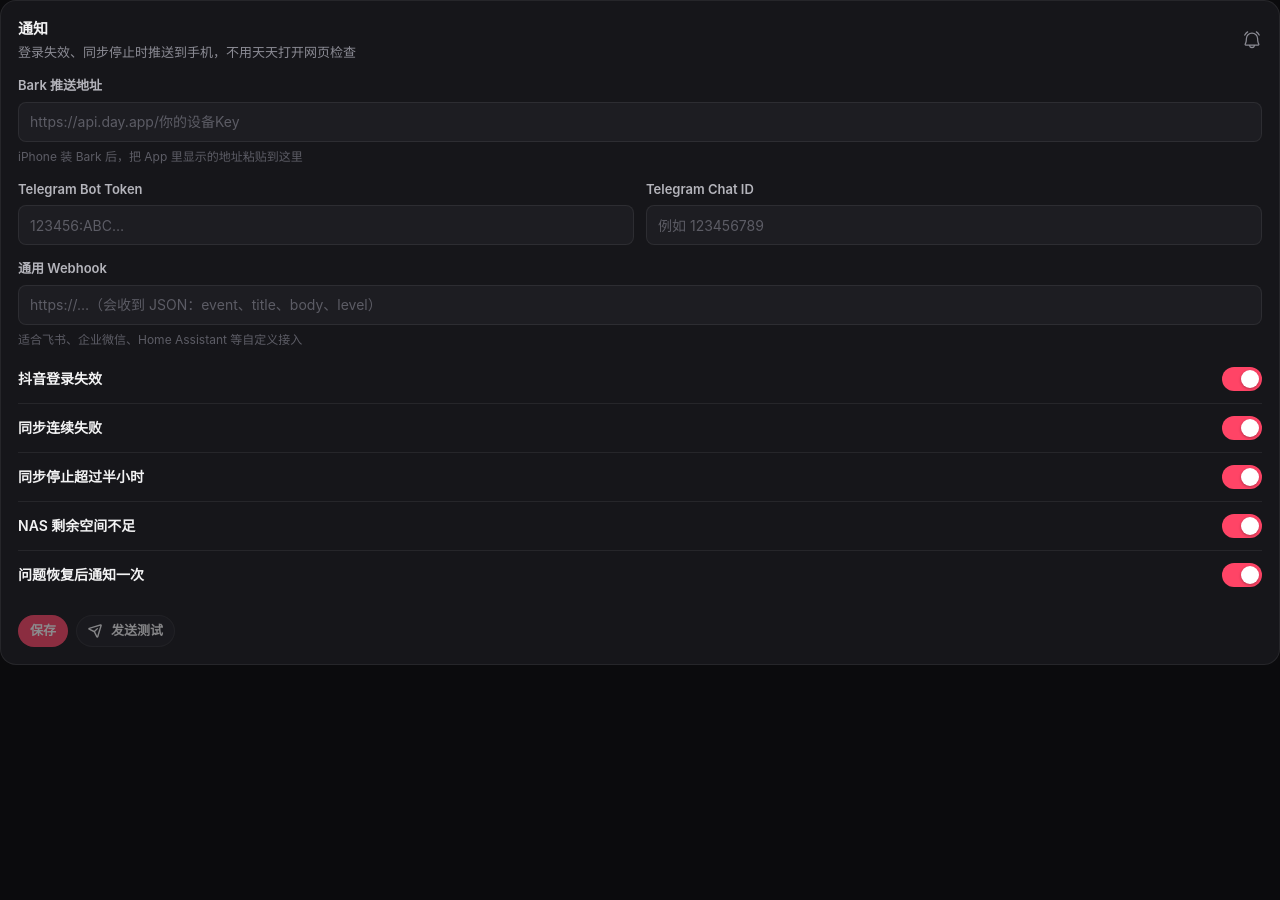
saves channel settings and sends a test message
The width and height of the screenshot is (1280, 900).
Expected: the button "发送测试" is disabled, [76, 614, 175, 646]
Type "https://api.day.app/abc" into the field labelled "Bark 推送地址". click: x=640, y=122
box: [18, 102, 1262, 142]
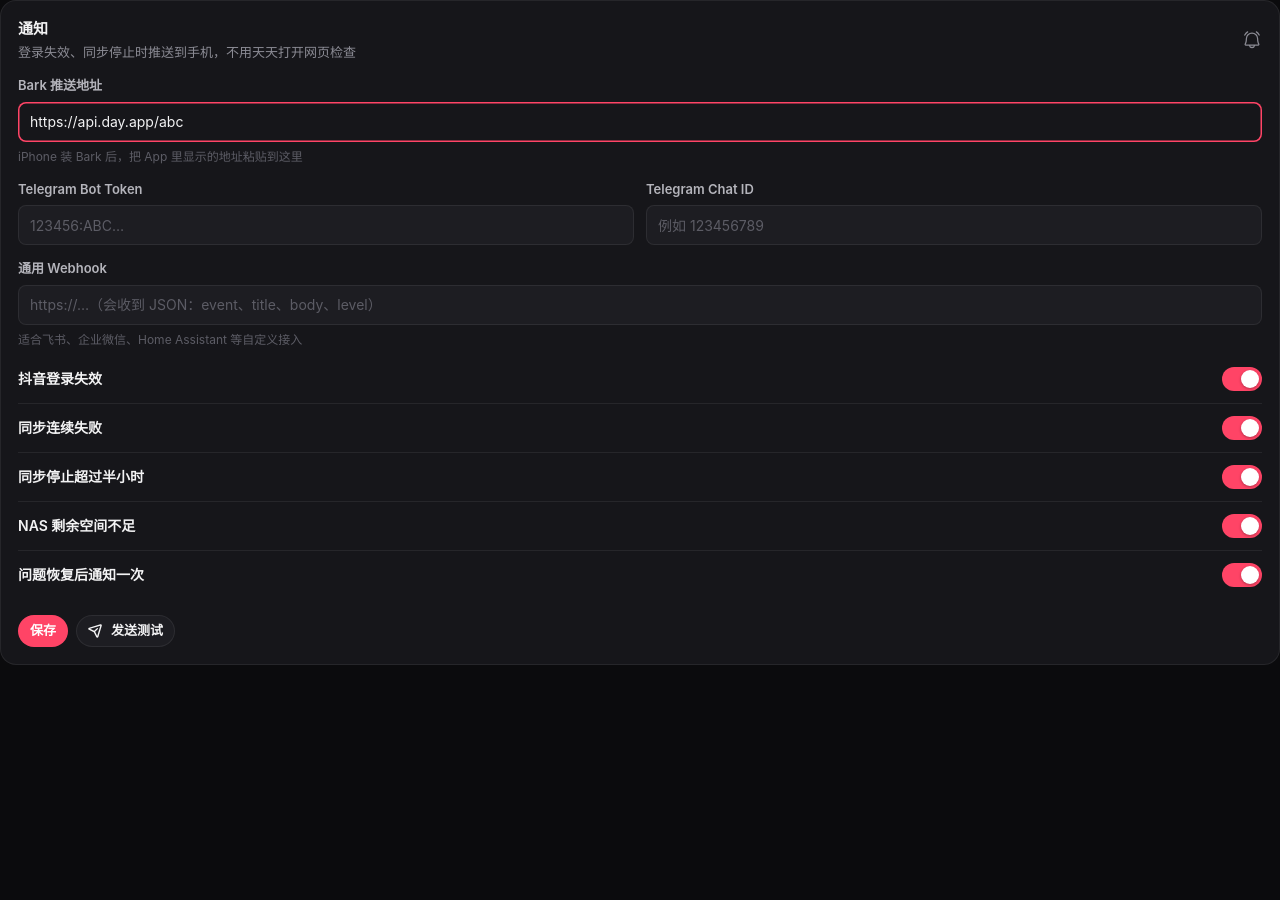
Click the switch named "问题恢复后通知一次". click: x=1242, y=574
box: [1222, 562, 1262, 586]
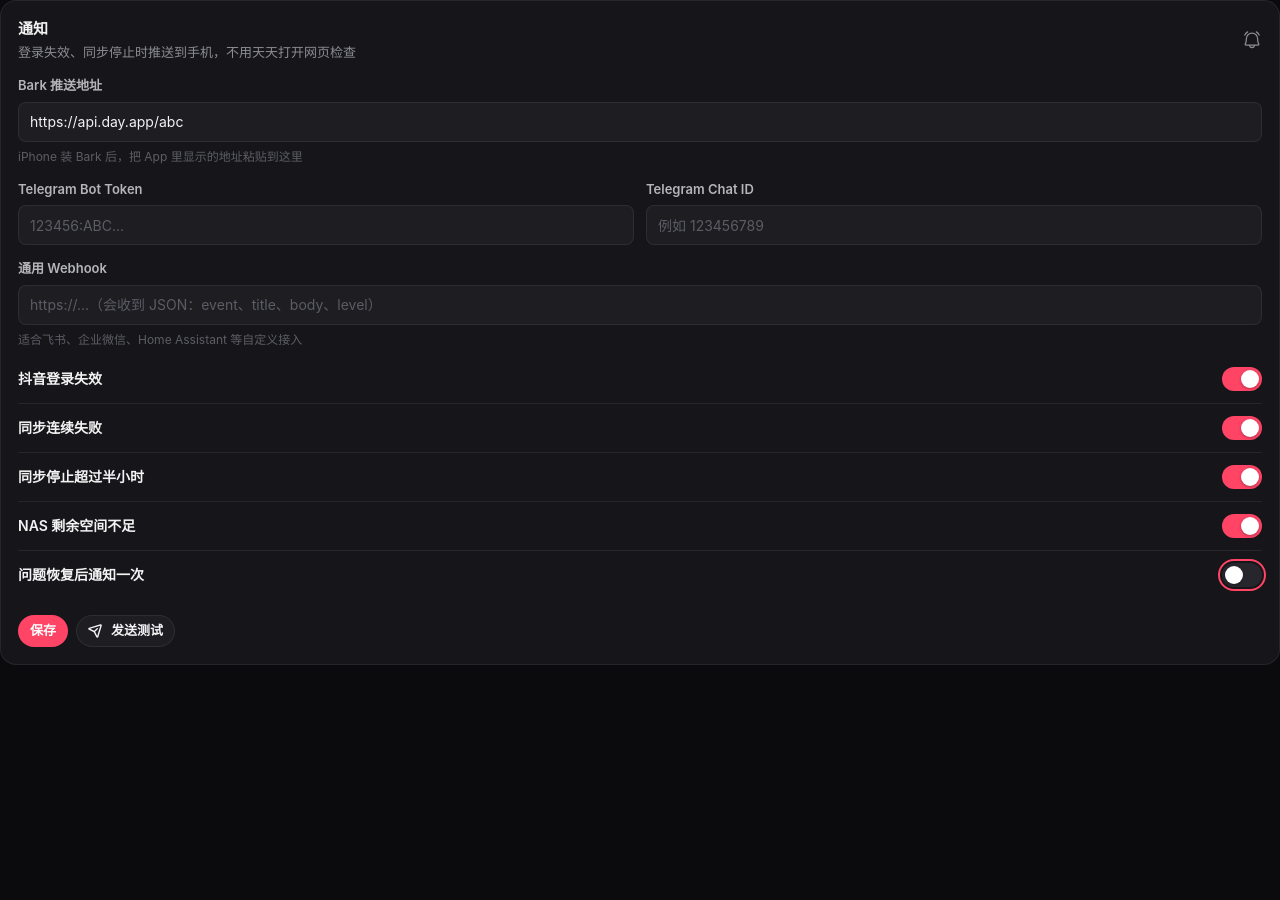
Click the button "发送测试". click: x=126, y=630
box: [76, 614, 175, 646]
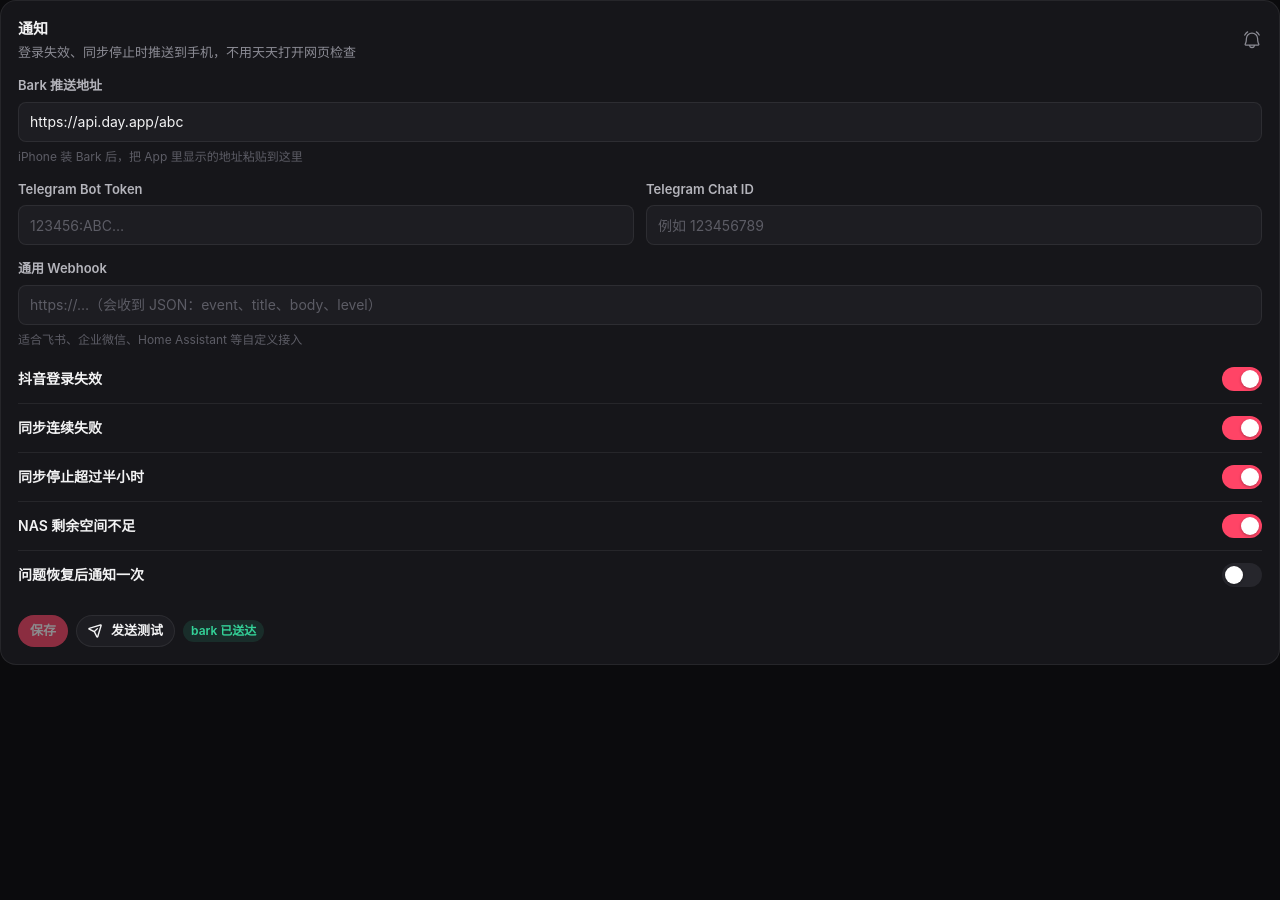
Result: the text "bark 已送达" is shown at [183, 620, 264, 642]
Result: the button "保存" is disabled at [18, 614, 68, 646]
